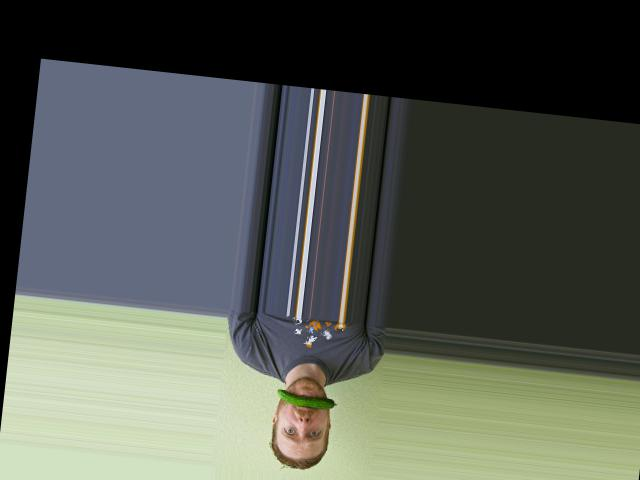cucumber: (275, 388, 338, 410)
